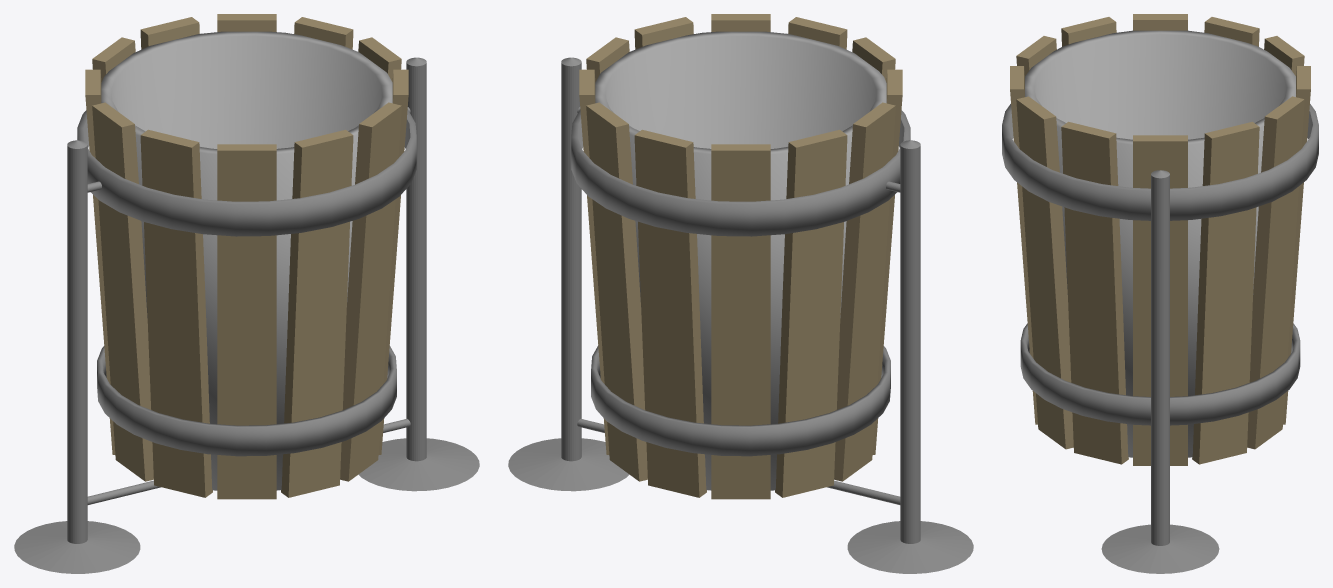
File: Papelera.fbx
3 views of the same model, side by side, from view 1: azimuth 30°, elevation 25°; view 2: azimuth 150°, elevation 25°; view 3: azimuth 270°, elevation 25° (orthographic). The views are drawn at different scales.
Visible parts, largest first — view 1: Cylinder, Cube.009, Cube.008, Cube.003, Cylinder.001, Circle, Cube.010, Cube.002, Cylinder.002, Circle.001, Cube.007, Cube.011 (+6 smaller); view 2: Cylinder, Cube.006, Cube.007, Cube.001, Cylinder.001, Circle, Cube.005, Cube.002, Cylinder.002, Circle.001, Cube.008, Cube.004 (+6 smaller); view 3: Cylinder, Cube.004, Cube.011, Cylinder.002, Circle, Cube.005, Cube.010, Cube, Circle.001, Cube.001, Cube.003, Cube.007 (+4 smaller).
Boxes of the visible parts, <box> form: Cylinder: <box>101,31,392,490</box>; Cube.009: <box>217,144,276,499</box>; Cube.008: <box>140,129,212,497</box>; Cube.003: <box>281,129,353,497</box>; Cylinder.001: <box>14,140,140,573</box>; Circle: <box>77,109,416,236</box>; Cube.010: <box>340,102,401,481</box>; Cube.002: <box>92,102,153,481</box>; Cylinder.002: <box>358,57,479,491</box>; Circle.001: <box>97,345,396,456</box>; Cube.007: <box>85,69,115,454</box>; Cube.011: <box>378,69,408,454</box>; Cylinder: <box>595,31,886,490</box>; Cube.006: <box>711,144,770,499</box>; Cube.007: <box>775,129,847,497</box>; Cube.001: <box>634,129,706,497</box>; Cylinder.001: <box>847,140,973,573</box>; Circle: <box>571,109,910,236</box>; Cube.005: <box>586,102,647,481</box>; Cube.002: <box>834,102,895,481</box>; Cylinder.002: <box>508,57,629,491</box>; Circle.001: <box>591,345,890,456</box>; Cube.008: <box>872,69,902,454</box>; Cube.004: <box>579,69,609,454</box>; Cylinder: <box>1025,30,1295,457</box>; Cube.004: <box>1192,121,1259,464</box>; Cube.011: <box>1061,121,1128,464</box>; Cylinder.002: <box>1101,170,1219,573</box>; Circle: <box>1002,104,1318,220</box>; Cube.005: <box>1247,96,1304,449</box>; Cube.010: <box>1016,96,1073,449</box>; Cube: <box>1133,135,1187,465</box>; Circle.001: <box>1020,323,1300,425</box>; Cube.001: <box>1283,66,1310,424</box>; Cube.003: <box>1010,66,1037,424</box>; Cube.007: <box>1204,17,1259,46</box>.
Size of the model in its own units: 382 by 344 by 251.
